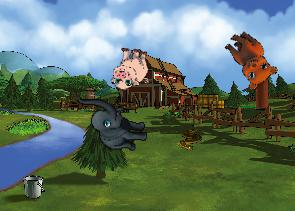bear: (213, 26, 283, 94)
elephant: (77, 94, 147, 151)
pig: (109, 45, 151, 91)
